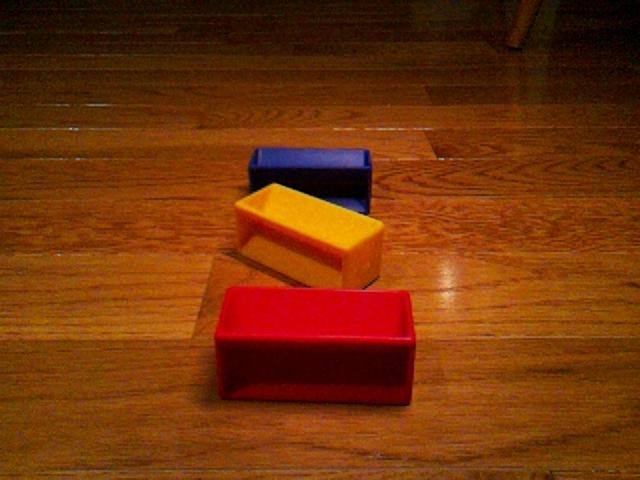blue: (247, 145, 374, 215)
red: (213, 285, 417, 407)
yellow: (233, 181, 386, 289)
